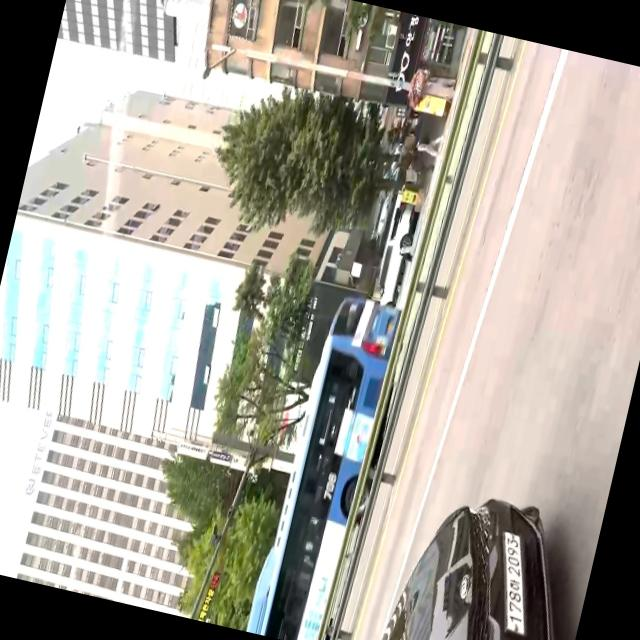building: (0, 65, 415, 493), (185, 0, 466, 133), (56, 0, 198, 67)
car: (244, 280, 404, 640), (371, 477, 596, 640)
